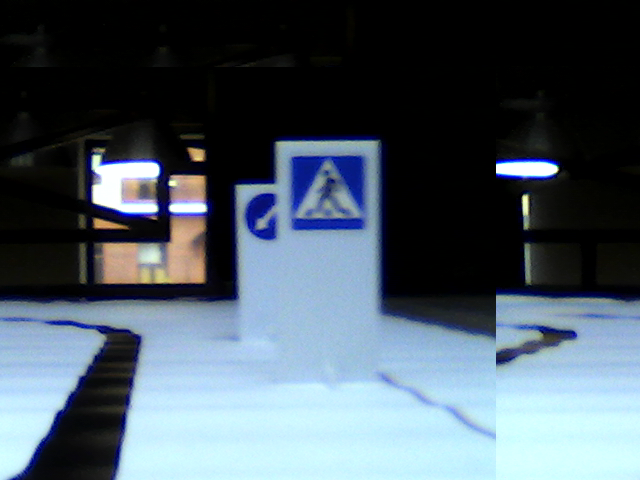pesh: (292, 153, 362, 226)
prep: (242, 190, 285, 236)
